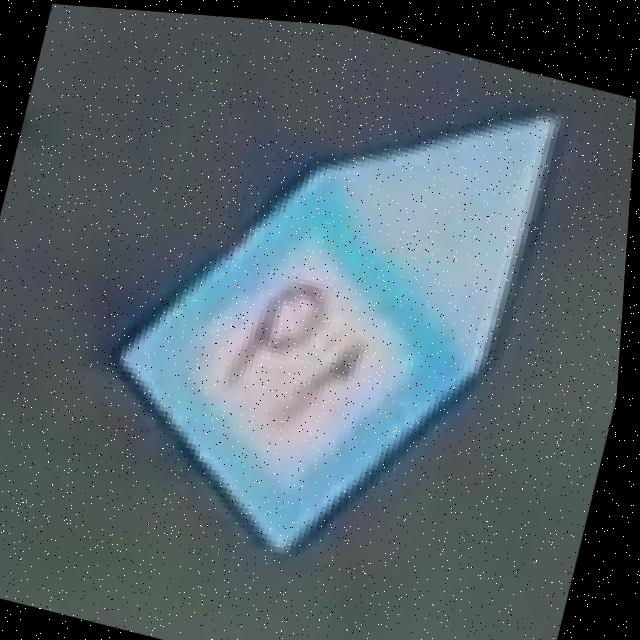board: (107, 102, 570, 558)
